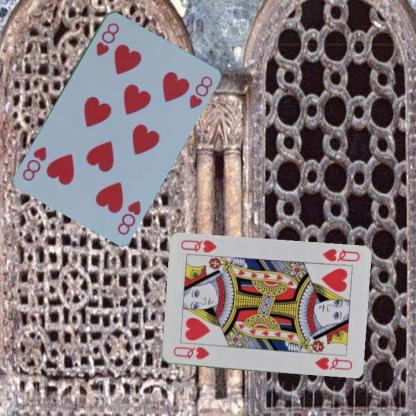8h: (93, 20, 121, 57), (115, 198, 142, 236)
Qh: (320, 246, 360, 264), (170, 344, 210, 360)
